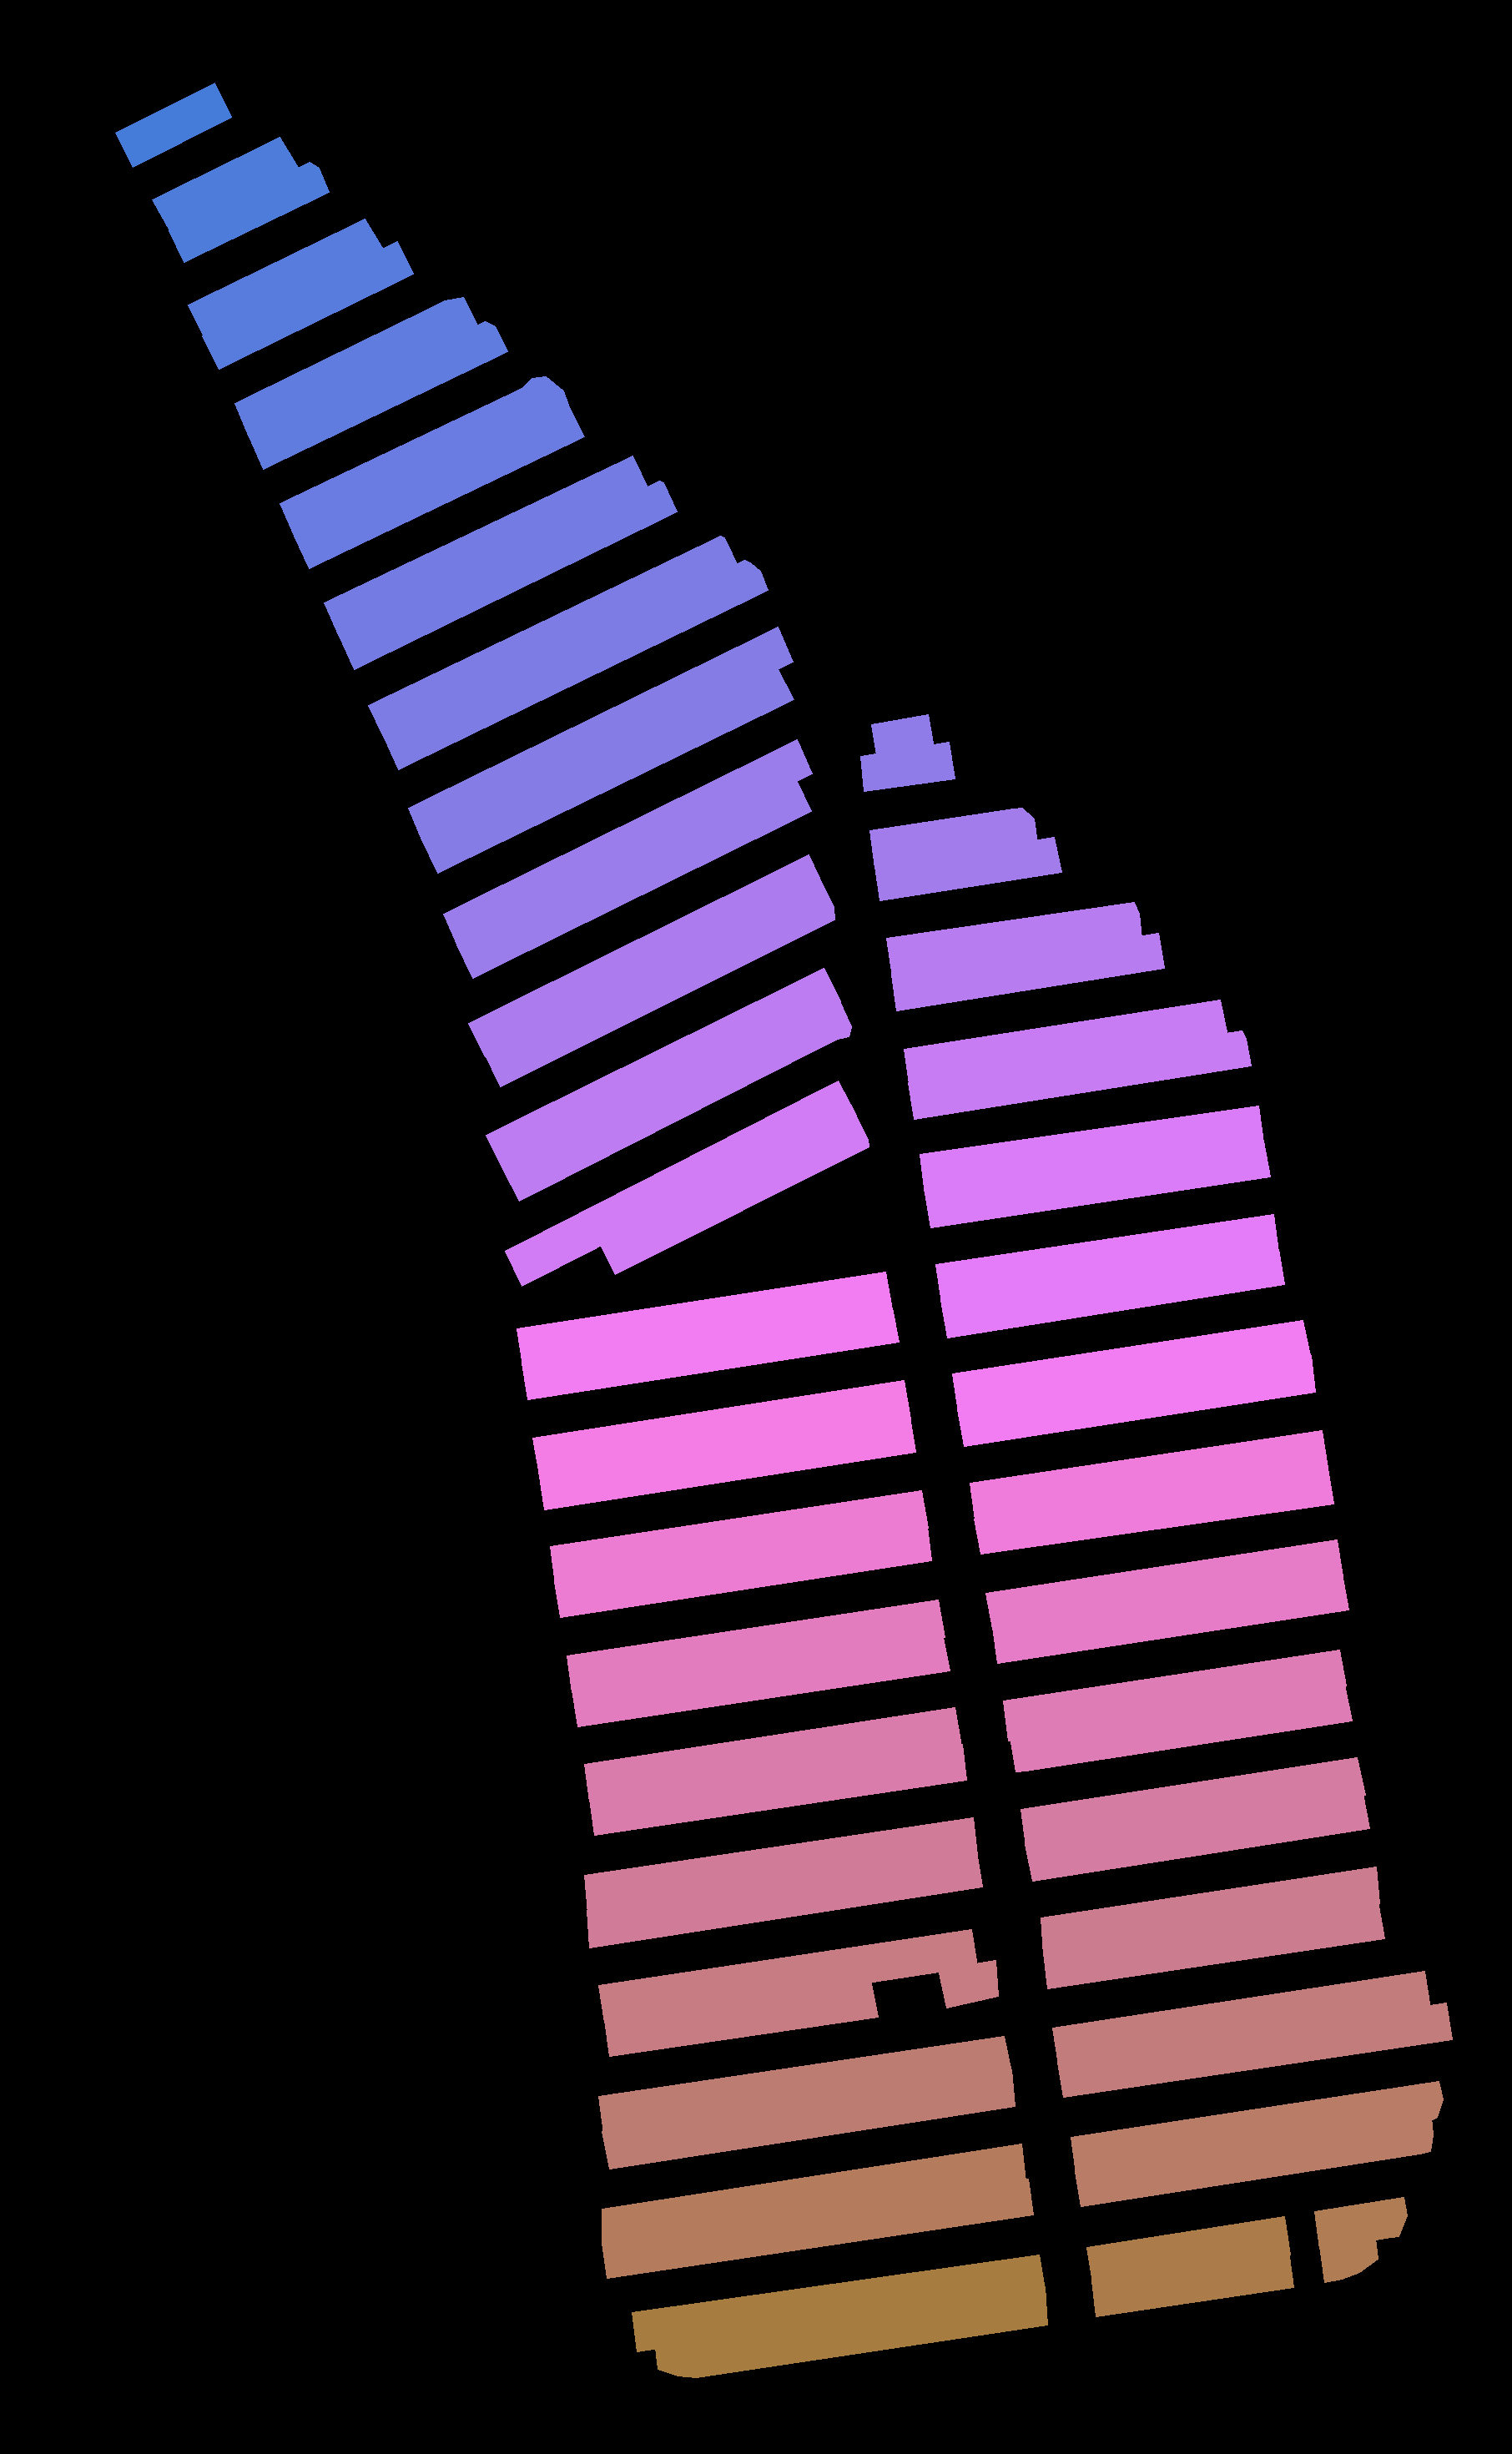parkingspot: (408, 626, 792, 841), (384, 559, 767, 770), (422, 666, 794, 873), (443, 740, 811, 948), (368, 536, 738, 738), (505, 1080, 857, 1287), (468, 854, 825, 1057), (485, 968, 841, 1169), (457, 778, 811, 978), (501, 999, 851, 1201), (484, 887, 834, 1087), (338, 480, 676, 670), (324, 456, 648, 638), (294, 403, 583, 568), (280, 377, 568, 538), (597, 1113, 869, 1274), (601, 2179, 1034, 2279), (601, 2144, 1025, 2245), (601, 2070, 1014, 2168), (597, 2037, 1011, 2133), (632, 2254, 1044, 2351), (249, 321, 508, 470), (587, 1851, 983, 1947), (583, 1818, 978, 1914), (1056, 2002, 1452, 2096), (533, 1379, 911, 1476), (583, 1707, 962, 1802), (554, 1523, 932, 1618), (550, 1490, 929, 1585), (655, 2286, 1048, 2377), (1053, 1970, 1430, 2065), (517, 1271, 892, 1365), (597, 1930, 978, 2023), (589, 1742, 967, 1835), (571, 1634, 950, 1727), (538, 1416, 915, 1509), (1070, 2081, 1442, 2174), (566, 1600, 944, 1692), (522, 1308, 899, 1399), (235, 296, 478, 436), (951, 1320, 1311, 1413), (957, 1355, 1316, 1446), (992, 1572, 1349, 1663), (969, 1430, 1328, 1520), (974, 1464, 1333, 1553), (1074, 2117, 1433, 2207), (985, 1539, 1342, 1628), (1002, 1649, 1346, 1741), (936, 1215, 1279, 1304), (1020, 1758, 1365, 1846), (1025, 1793, 1370, 1881), (908, 1031, 1251, 1118), (920, 1106, 1263, 1194), (941, 1250, 1284, 1337), (1009, 1684, 1353, 1772), (1042, 1900, 1384, 1988), (925, 1141, 1270, 1227), (1041, 1867, 1379, 1954), (904, 999, 1228, 1083), (201, 242, 413, 368), (187, 219, 384, 338), (604, 1979, 878, 2056), (892, 933, 1163, 1010), (887, 903, 1142, 976), (168, 161, 329, 261), (152, 137, 300, 231), (1086, 2216, 1289, 2282), (1092, 2251, 1293, 2316), (874, 836, 1062, 901), (869, 808, 1037, 868), (116, 82, 231, 167), (1314, 2196, 1407, 2249), (860, 741, 955, 791), (937, 1960, 999, 2007), (871, 713, 934, 755), (1319, 2238, 1377, 2282)
